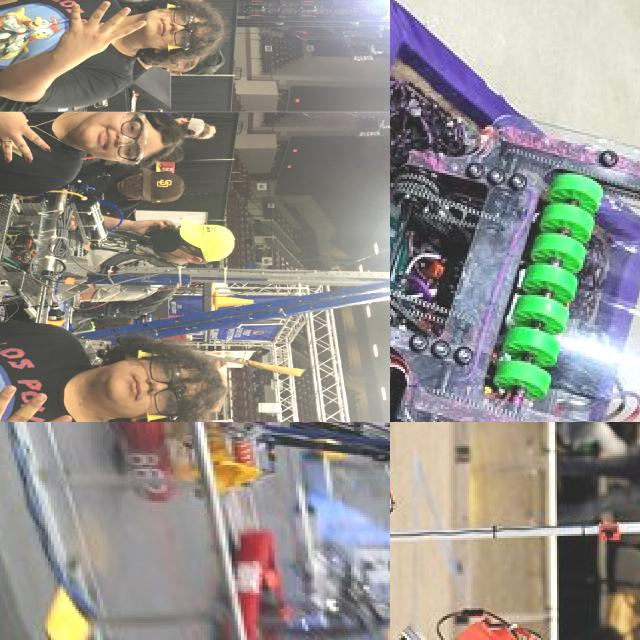FRC-Robots: (390, 0, 640, 422), (0, 190, 390, 345), (390, 422, 596, 640), (79, 422, 390, 500), (199, 542, 390, 640)
